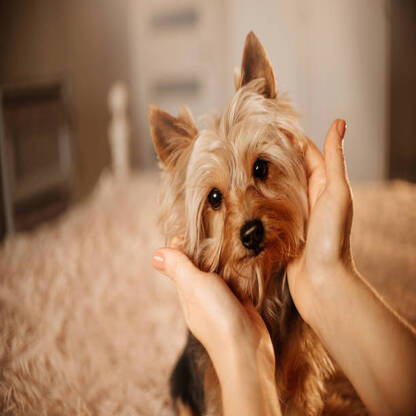yorkshire: (143, 29, 319, 298)
